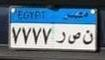7: (42, 27, 53, 45), (32, 27, 41, 45), (12, 27, 21, 45), (22, 27, 31, 43)
noon: (82, 29, 95, 45)
raa: (57, 31, 65, 43)
saad: (68, 31, 81, 45)
